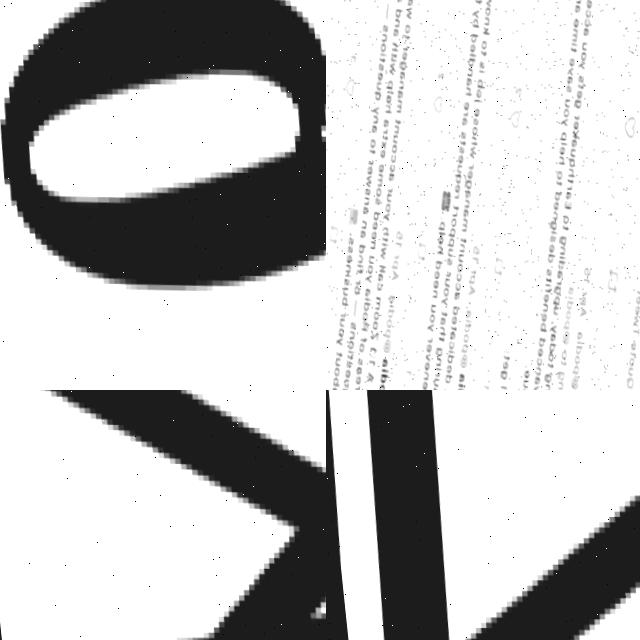1: (357, 358, 366, 366), (359, 346, 368, 354), (631, 260, 639, 268), (395, 369, 402, 377), (574, 279, 582, 285), (463, 257, 471, 263), (387, 242, 395, 248), (471, 385, 478, 390)
2: (509, 86, 518, 96), (433, 71, 442, 81)
3: (345, 54, 354, 62)
4: (631, 246, 640, 258)
5: (574, 267, 583, 278), (464, 245, 473, 256), (388, 230, 397, 241)
6: (0, 0, 326, 315)
K: (0, 390, 326, 640)
Z: (342, 390, 640, 640)
